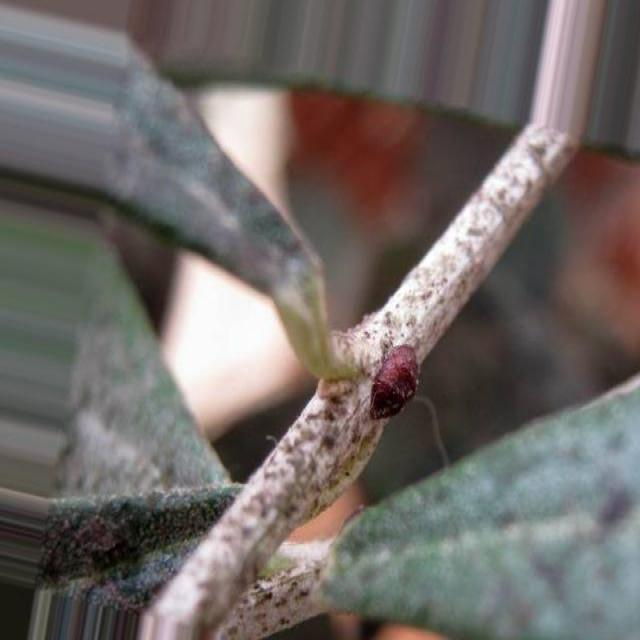Black Scale: (369, 344, 415, 419)
